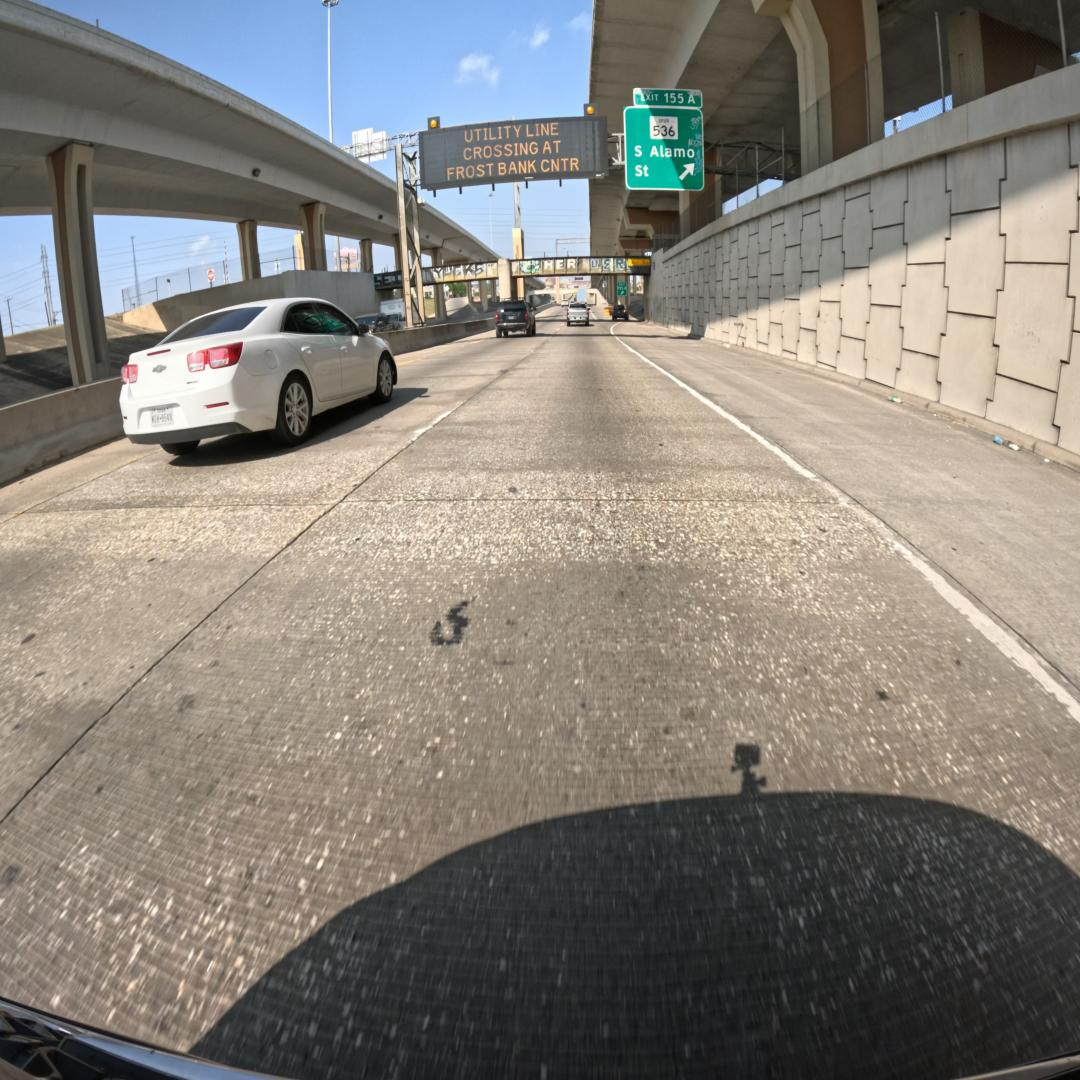lane0: (0, 333, 1080, 1080)
lane1: (0, 333, 535, 820)
